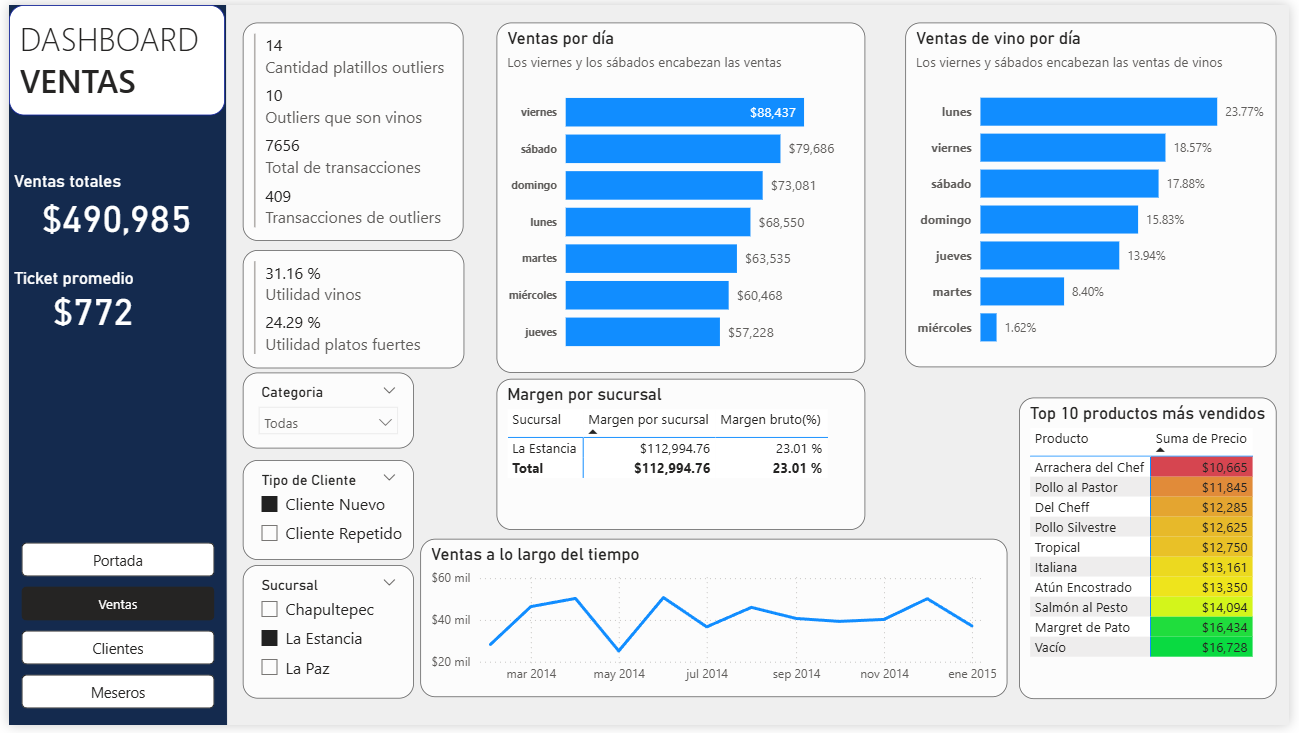

What the dashboard file says about the page in this screenshot:
{"tool":"powerbi","page":{"name":"Ventas","canvas":[1280,720],"ordinal":1},"visuals":[{"type":"barChart","title":"Ventas por día","fields":{"Category":["Fechas.Día nombre"],"Y":["Sum(Ventas.Precio)"]},"box":[487.5,17.5,368.8,350],"z":0},{"type":"multiRowCard","fields":{"Values":["Ventas.Cantidad platillos outliers","Ventas.Outliers que son vinos","Ventas.Total de transacciones","Ventas.Transacciones de outliers"]},"box":[234,18.1,220.8,218.4],"z":1000},{"type":"multiRowCard","fields":{"Values":["Ventas.Utilidad vinos","Ventas.Utilidad Platos_Fuertes"]},"box":[233.8,245,221.2,118.8],"z":2000},{"type":"pivotTable","title":"Top 10 productos más vendidos","fields":{"Rows":["Productos.Producto"],"Values":["Sum(Ventas.Precio)"]},"box":[1010,392.5,257.5,301.2],"z":3000},{"type":"card","title":"Ventas totales","fields":{"Values":["Sum(Ventas.Precio)"]},"box":[0,166.2,216.2,70],"z":4000},{"type":"card","title":"Ticket promedio","fields":{"Values":["Ventas.Ticket Promedio"]},"box":[0,262.5,168.8,63.8],"z":5000},{"type":"pivotTable","title":"Margen por sucursal","fields":{"Rows":["Sucursales.Sucursal"],"Values":["Ventas.Margen por sucursal","Ventas.Margen bruto(%)_medida_compuesta"]},"box":[487.5,373.8,368.8,151.2],"z":6000},{"type":"slicer","fields":{"Values":["Ventas.Sucursal"]},"box":[233.8,560,171.2,133.8],"z":7000},{"type":"slicer","fields":{"Values":["Ventas.Tipo de Cliente"]},"box":[233.8,455,171.2,100],"z":8000},{"type":"slicer","fields":{"Values":["Productos.Categoria"]},"box":[233.8,367.5,171.2,76.2],"z":9000},{"type":"lineChart","title":"Ventas a lo largo del tiempo","fields":{"Y":["Sum(Ventas.Precio)"],"Category":["Fechas.Fecha.Variación.Jerarquía de fechas.Año","Fechas.Fecha.Variación.Jerarquía de fechas.Mes","Fechas.Fecha.Variación.Jerarquía de fechas.Día"]},"box":[411.2,533.8,587.5,158.8],"z":10000},{"type":"textbox","box":[0,0,216.2,110],"z":11000},{"type":"barChart","title":"Ventas de vino por día","fields":{"Category":["Fechas.Día nombre"],"Y":["Sum(Ventas.Precio)"]},"box":[896.2,17.5,371.2,345],"z":12000},{"type":"pageNavigator","box":[12.5,537.5,193.8,168.8],"z":12001}]}

Visuals, with their boxes in screenshot pixels (x1, y1, x2, y2), scaled from the page's 1280x720 canvas onto the 1299x733 screenshot:
"Ventas por día" barChart: detection(495, 18, 869, 374)
multiRowCard - Ventas.Cantidad platillos outliers x Ventas.Outliers que son vinos: detection(237, 18, 462, 241)
multiRowCard - Ventas.Utilidad vinos x Ventas.Utilidad Platos_Fuertes: detection(237, 249, 462, 370)
"Top 10 productos más vendidos" pivotTable: detection(1025, 400, 1286, 706)
"Ventas totales" card: detection(0, 169, 219, 240)
"Ticket promedio" card: detection(0, 267, 171, 332)
"Margen por sucursal" pivotTable: detection(495, 381, 869, 534)
slicer - Ventas.Sucursal: detection(237, 570, 411, 706)
slicer - Ventas.Tipo de Cliente: detection(237, 463, 411, 565)
slicer - Productos.Categoria: detection(237, 374, 411, 452)
"Ventas a lo largo del tiempo" lineChart: detection(417, 543, 1014, 705)
textbox: detection(0, 0, 219, 112)
"Ventas de vino por día" barChart: detection(910, 18, 1286, 369)
pageNavigator: detection(13, 547, 209, 719)
